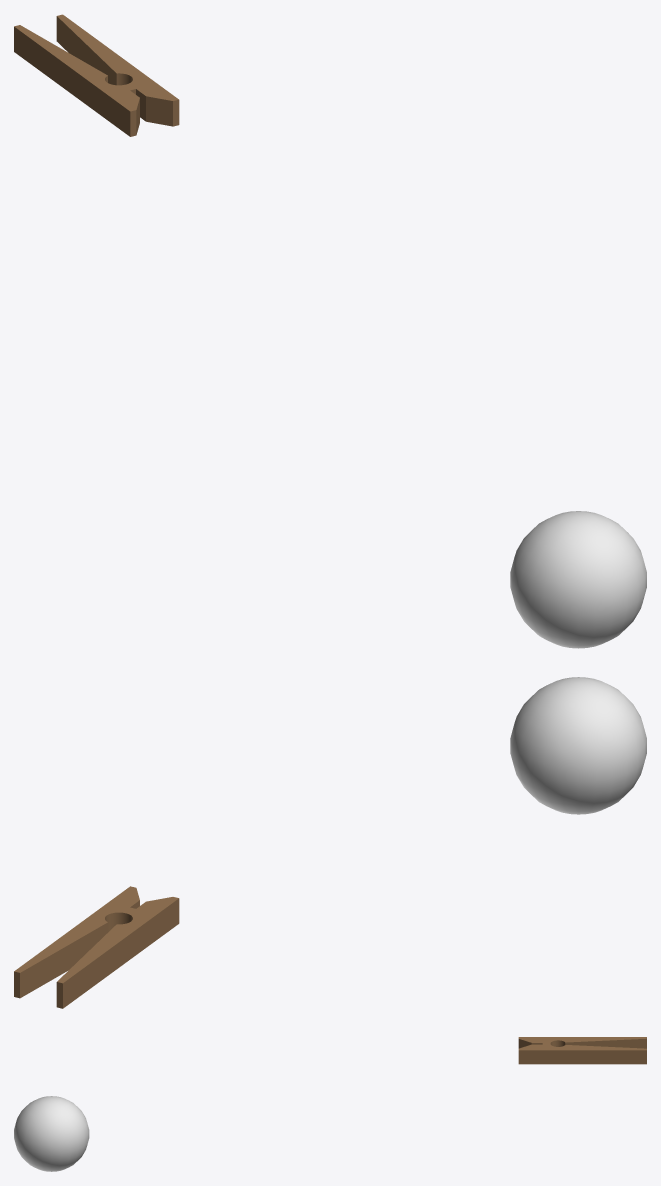
3 views of the same model, one above another, from view 1: azimuth 30°, elevation 25°; view 2: azimuth 150°, elevation 25°; view 3: azimuth 270°, elevation 25° (orthographic). The views are drawn at different scales.
Parts seen in each view (by area): view 1: ball, jaws; view 2: ball, jaws; view 3: ball, jaws.
Boxes of the visible parts, x1=… form: ball: x1=510, y1=511, x2=646, y2=648; jaws: x1=14, y1=14, x2=179, y2=136; ball: x1=510, y1=677, x2=646, y2=814; jaws: x1=14, y1=886, x2=179, y2=1008; ball: x1=14, y1=1096, x2=89, y2=1171; jaws: x1=518, y1=1037, x2=646, y2=1064.
Bounding box in the file's own units: 0.0116 × 0.0212 × 0.0977.
